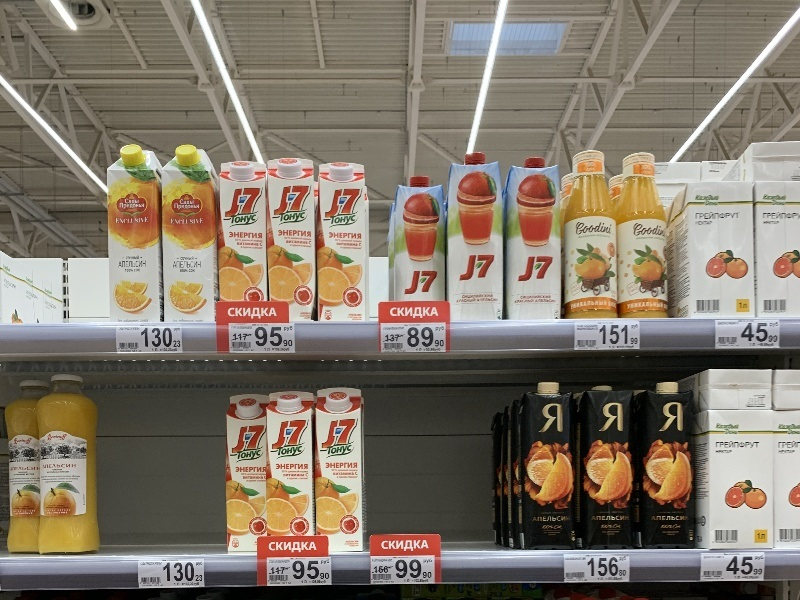juice: (102, 139, 174, 326), (637, 380, 711, 557), (158, 140, 224, 330), (575, 384, 648, 552), (442, 151, 510, 327), (519, 381, 584, 556), (314, 381, 377, 560), (309, 158, 373, 329), (263, 150, 323, 328), (507, 151, 565, 325), (215, 158, 274, 311), (384, 172, 450, 305), (261, 385, 316, 543), (221, 390, 273, 553)
